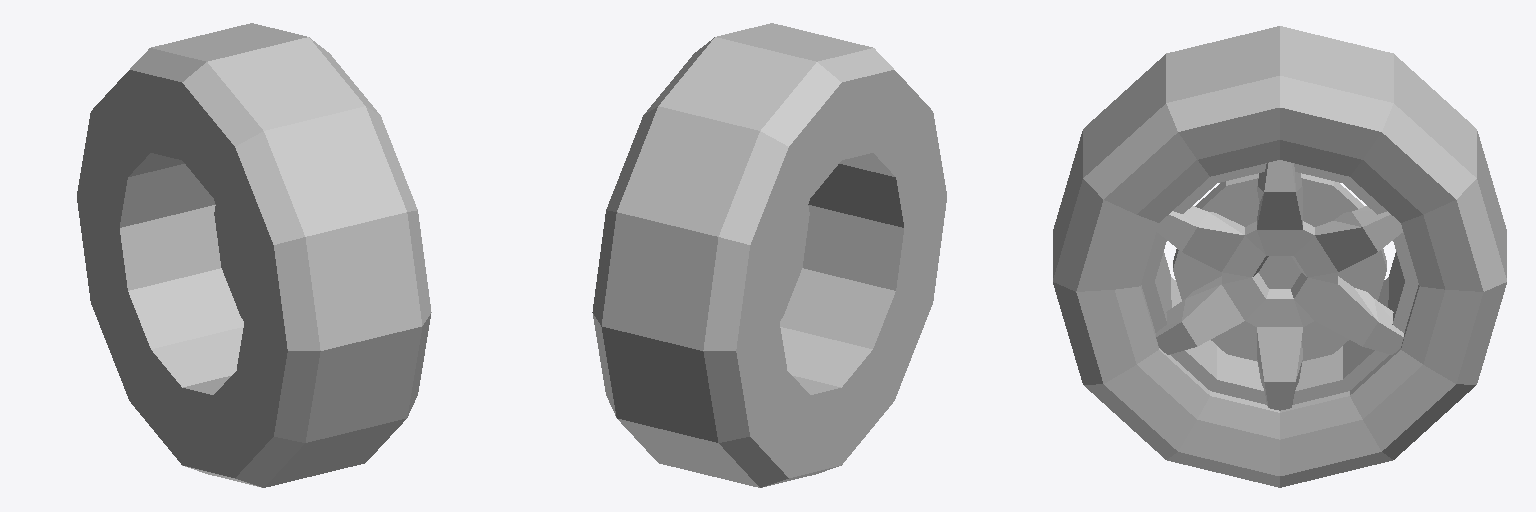
The model's file is wheel_bl.obj.
The picture shows the model from 3 angles: view 1: azimuth 30°, elevation 25°; view 2: azimuth 150°, elevation 25°; view 3: azimuth 270°, elevation 25°; orthographic projection.
Visible parts, largest first — view 1: back_left_SM_Veh_Car_Taxi_Wheel_rl_网格.003; view 2: back_left_SM_Veh_Car_Taxi_Wheel_rl_网格.003; view 3: back_left_SM_Veh_Car_Taxi_Wheel_rl_网格.003.
Part boxes in pixels (x1,y1,x2,y2): back_left_SM_Veh_Car_Taxi_Wheel_rl_网格.003: (77, 23, 431, 487); back_left_SM_Veh_Car_Taxi_Wheel_rl_网格.003: (592, 23, 946, 487); back_left_SM_Veh_Car_Taxi_Wheel_rl_网格.003: (1053, 26, 1506, 487).
Bounding box in the file's own units: 0.2708 × 0.7231 × 0.7231.